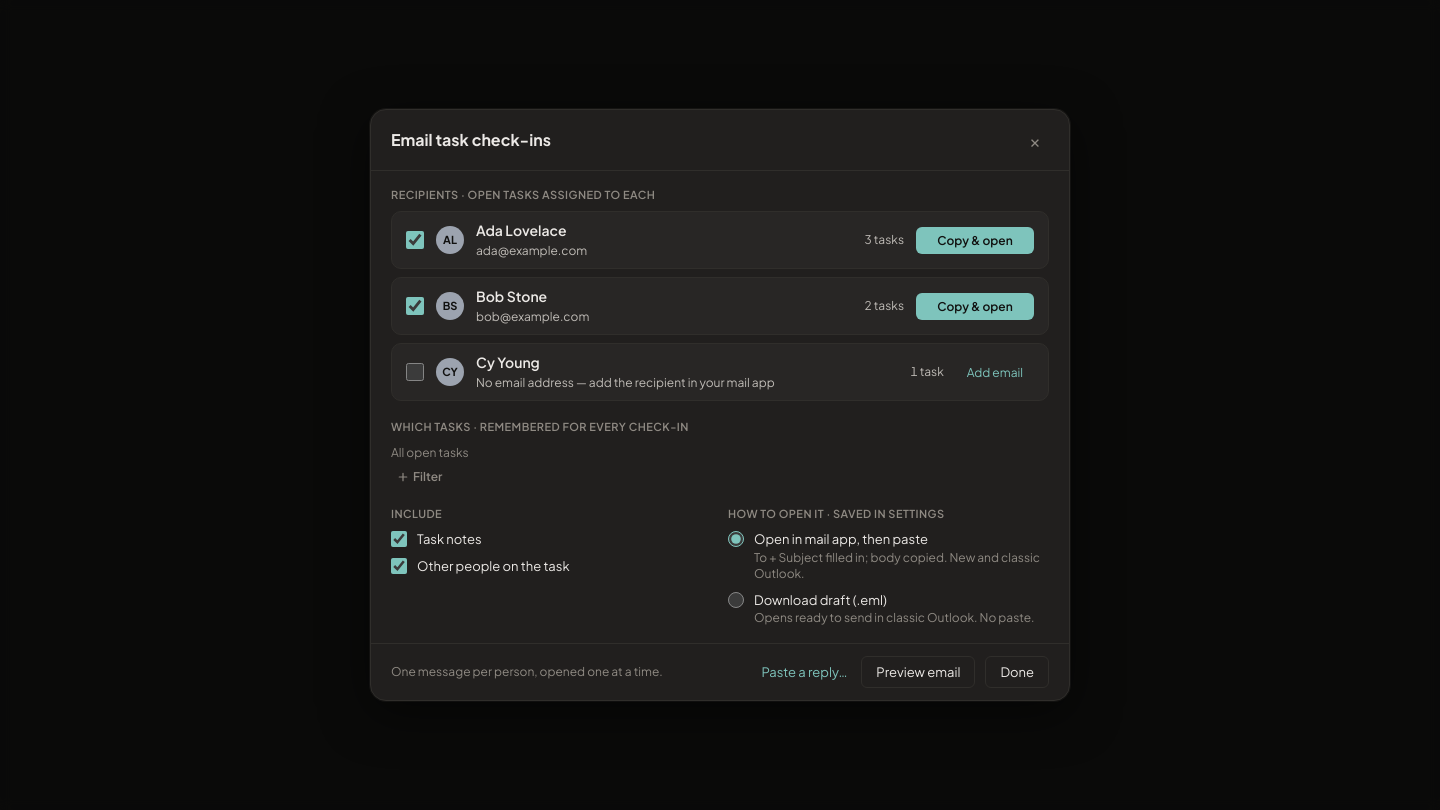
CheckinDialog — Which tasks › a filter added from + Filter is saved at once; the counts follow it
What coordinates should you click on to do the following:
click the button "Filter"
I would click on:
 (420, 477)
Its box is [391, 466, 448, 488].
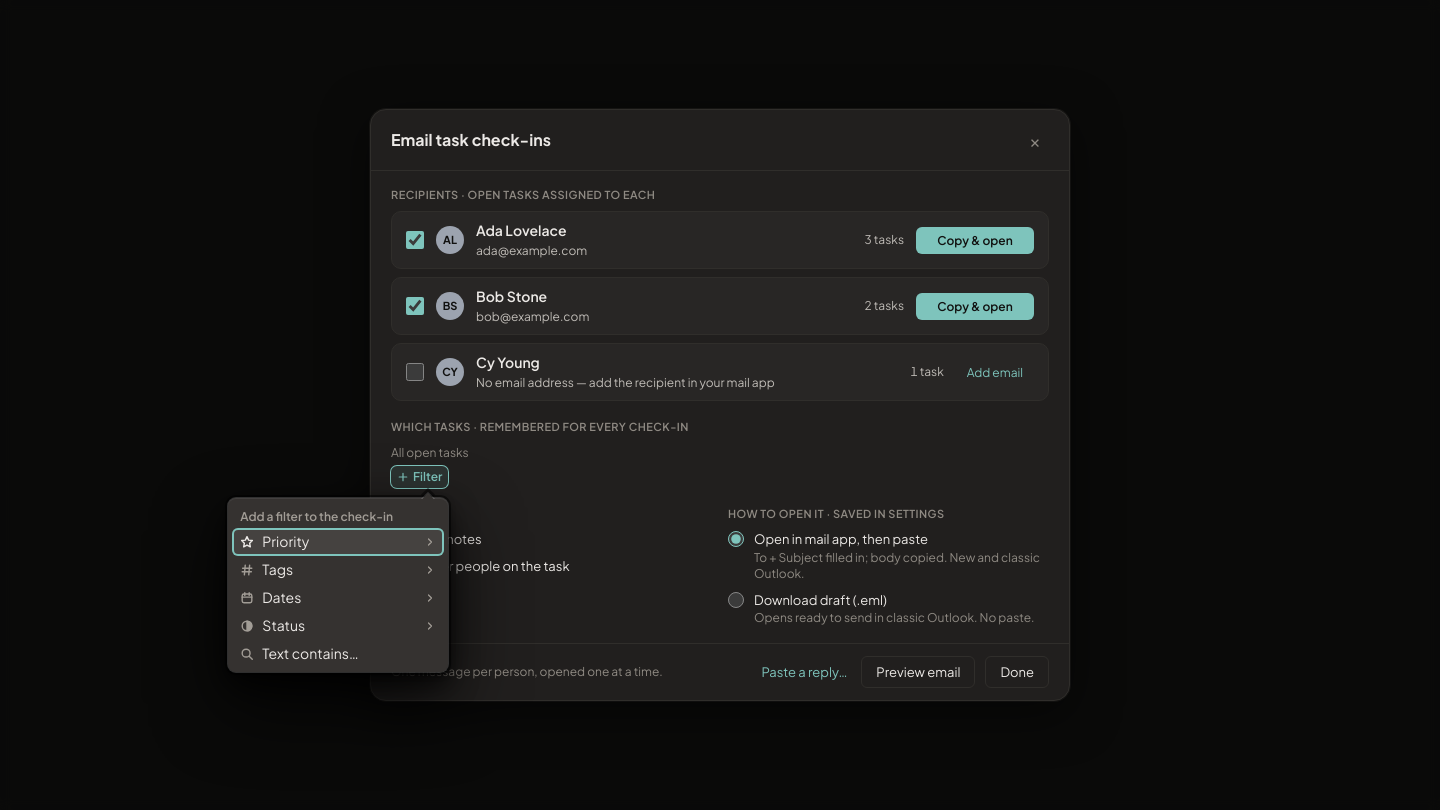
What coordinates should you click on to do the following:
click the menu item "Priority"
I would click on:
 (338, 542)
Its box is [232, 528, 444, 556].
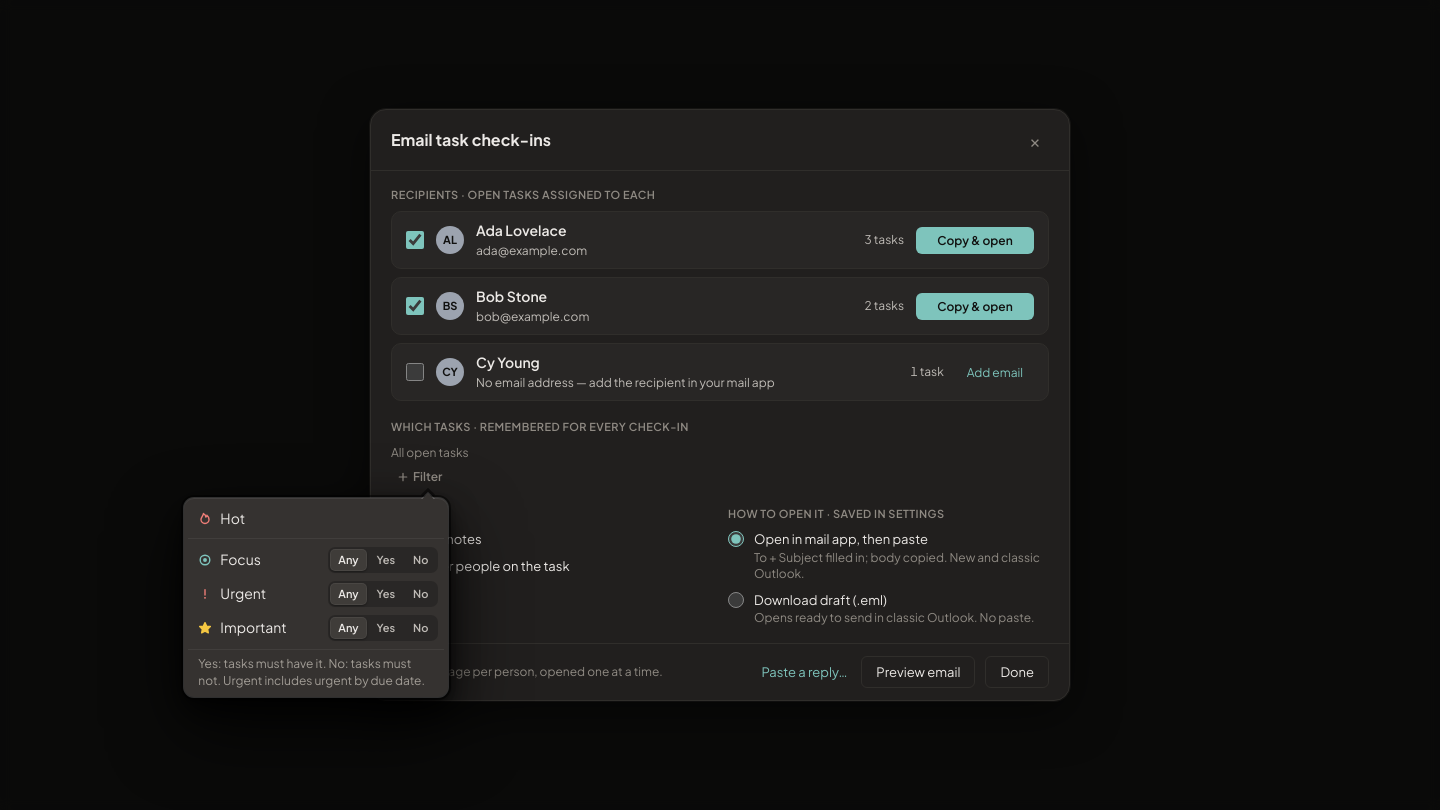
What coordinates should you click on to do the following:
click the checkbox labelled "Hot"
I would click on:
 (316, 518)
Its box is [188, 502, 444, 534].
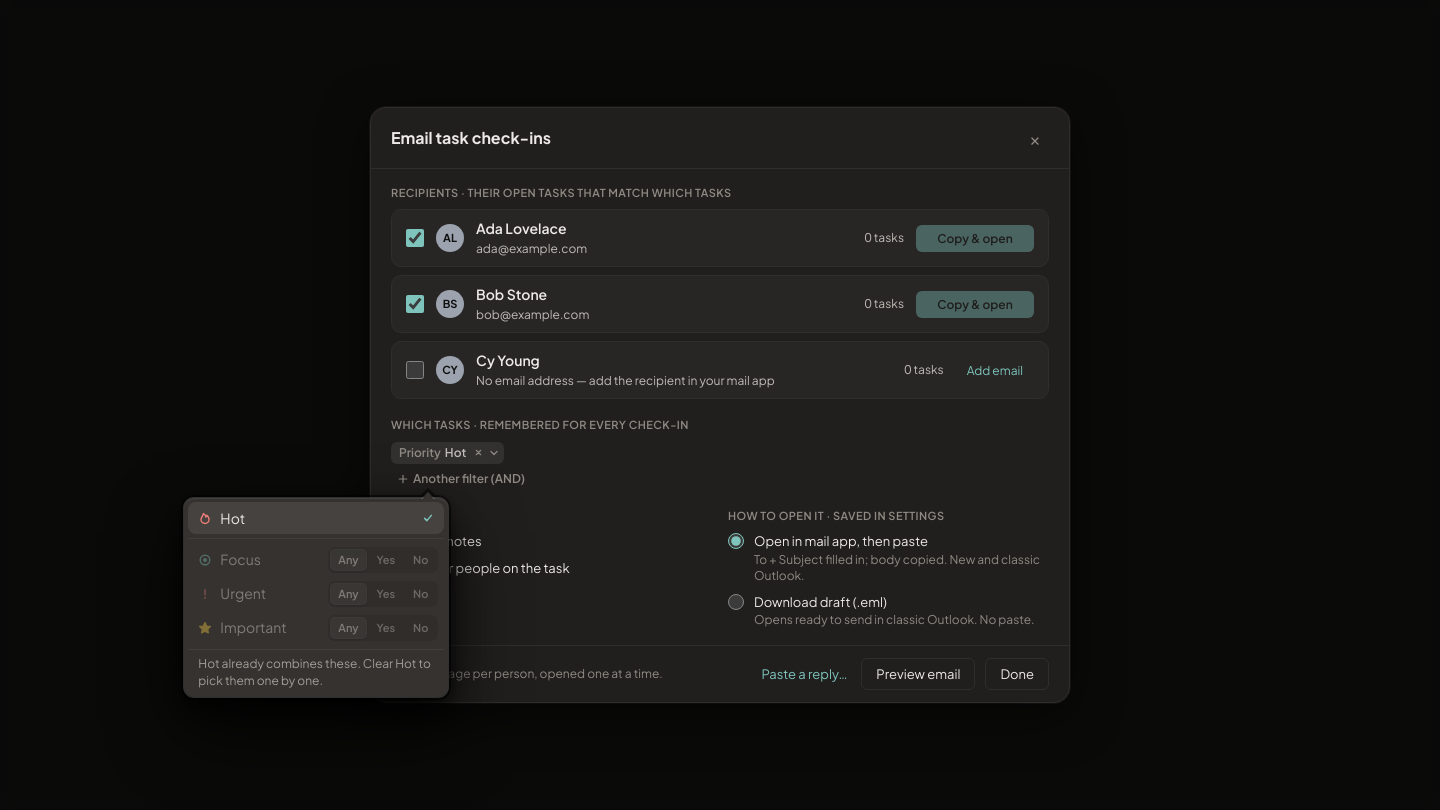
Now the elements with test id "list-filter-chip" read "PriorityHot", in this order, box [391, 442, 504, 464]
Now the button with aria-label "Copy & open for Ada Lovelace" is disabled, box [916, 225, 1034, 252]
